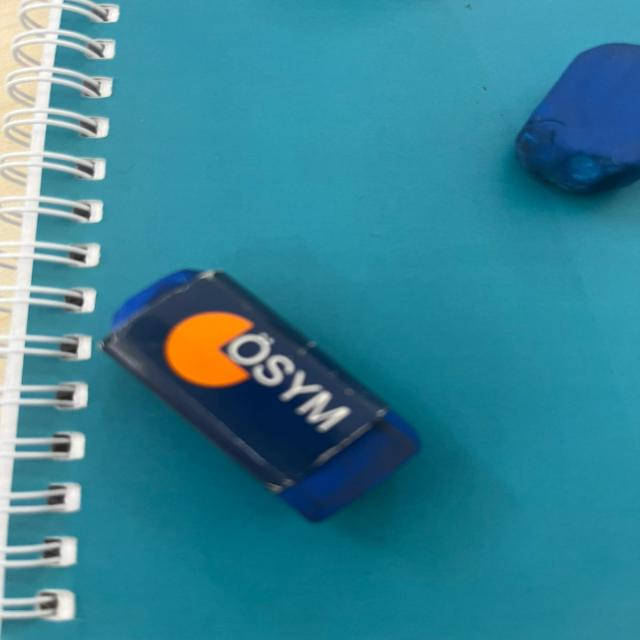eraser: (92, 255, 434, 528), (480, 25, 640, 208)
